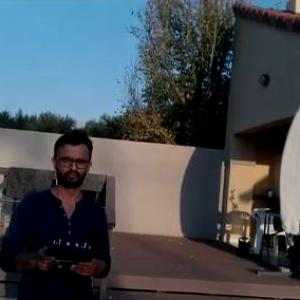follow: (0, 122, 116, 299)
